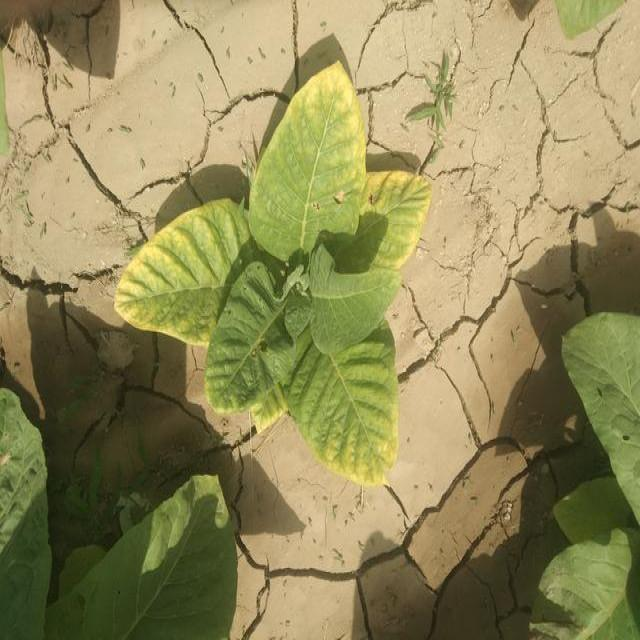crop: (119, 60, 427, 478), (0, 405, 231, 640), (534, 320, 640, 640)
